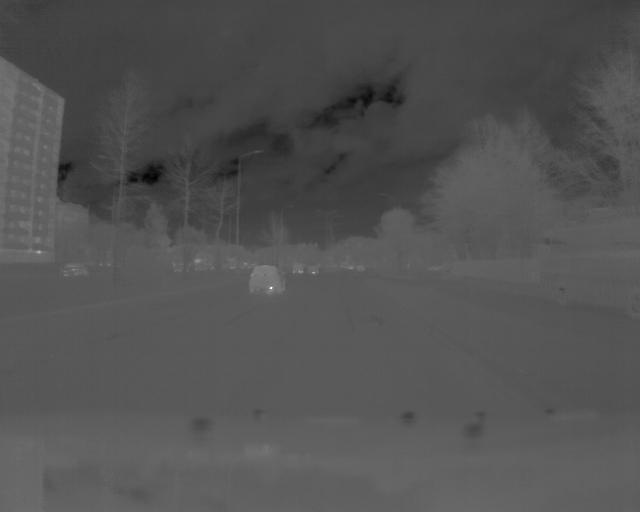car: (249, 264, 287, 297)
